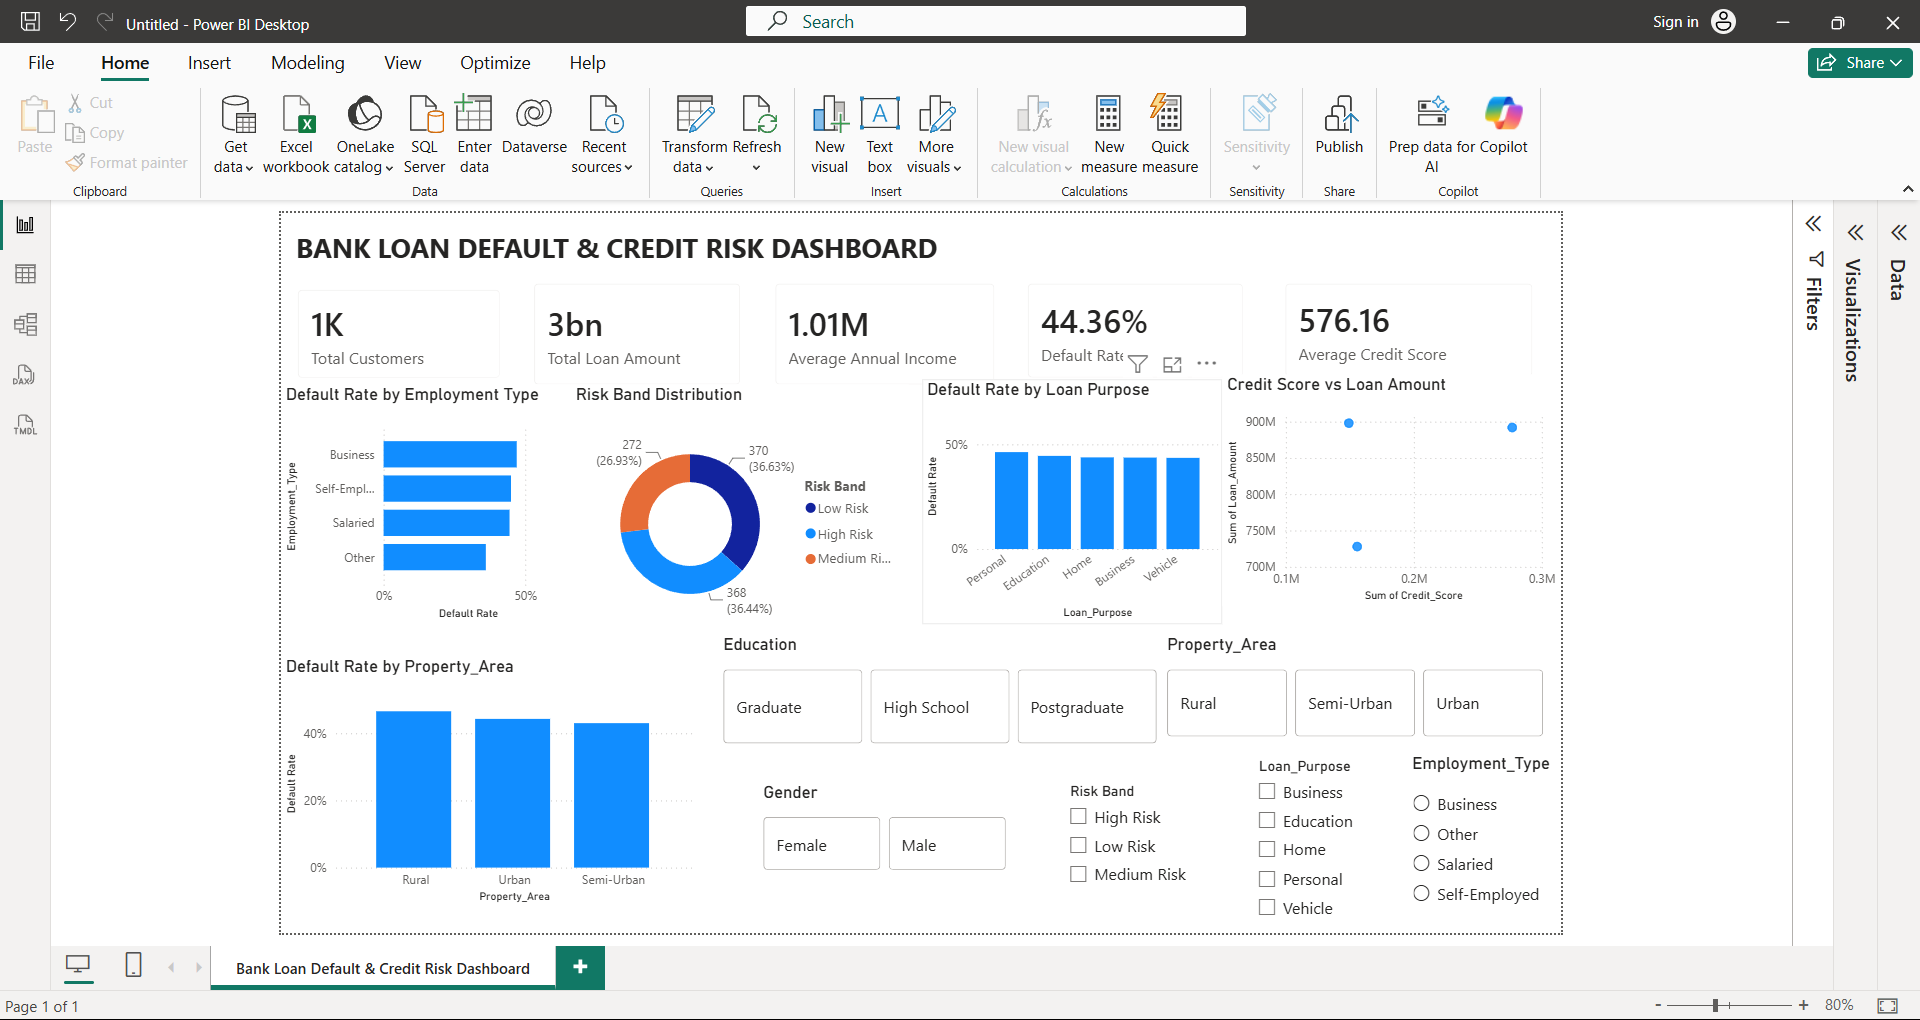

The dashboard page shown, as its layout file describes it:
{"tool":"powerbi","page":{"name":"Bank Loan Default & Credit Risk Dashboard","canvas":[1280,720],"ordinal":0},"visuals":[{"type":"cardVisual","fields":{"Data":["Bank_Loan_Dataset_PowerBI.Total Customers"]},"box":[0,59.9,236,122.3],"z":0},{"type":"cardVisual","fields":{"Data":["Bank_Loan_Dataset_PowerBI.Total Loan Amount"]},"box":[236,53.8,240.9,135.7],"z":1000},{"type":"cardVisual","fields":{"Data":["Bank_Loan_Dataset_PowerBI.Average Annual Income"]},"box":[476.9,53.8,253.1,135.7],"z":2000},{"type":"cardVisual","fields":{"Data":["Bank_Loan_Dataset_PowerBI.Average Credit Score"]},"box":[988,53.8,281.3,127.2],"z":3000},{"type":"cardVisual","fields":{"Data":["Bank_Loan_Dataset_PowerBI.Default Rate"]},"box":[730,53.8,249.5,128.4],"z":4000},{"type":"clusteredColumnChart","title":"Default Rate by Loan Purpose","fields":{"Category":["Bank_Loan_Dataset_PowerBI.Loan_Purpose"],"Y":["Bank_Loan_Dataset_PowerBI.Default Rate"]},"box":[640.8,166.3,300.8,244.6],"z":5000},{"type":"donutChart","title":"Risk Band Distribution","fields":{"Category":["Bank_Loan_Dataset_PowerBI.Risk Band"],"Y":["CountNonNull(Bank_Loan_Dataset_PowerBI.Loan_ID)"]},"box":[289.8,171.2,337.5,249.5],"z":6000},{"type":"scatterChart","title":"Credit Score vs Loan Amount","fields":{"X":["Sum(Bank_Loan_Dataset_PowerBI.Credit_Score)"],"Y":["Sum(Bank_Loan_Dataset_PowerBI.Loan_Amount)"],"Category":["Bank_Loan_Dataset_PowerBI.Risk Band"]},"box":[941.6,161.4,338.7,232.3],"z":7000},{"type":"columnChart","fields":{"Category":["Bank_Loan_Dataset_PowerBI.Property_Area"],"Y":["Bank_Loan_Dataset_PowerBI.Default Rate"]},"box":[0,442.7,417,251.9],"z":8000},{"type":"advancedSlicerVisual","fields":{"Values":["Bank_Loan_Dataset_PowerBI.Gender"]},"box":[476.9,568.6,253.1,94.2],"z":9000},{"type":"listSlicer","fields":{"Values":["Bank_Loan_Dataset_PowerBI.Employment_Type"]},"box":[1126.2,540.5,154.1,171.2],"z":10000},{"type":"advancedSlicerVisual","fields":{"Values":["Bank_Loan_Dataset_PowerBI.Education"]},"box":[437.8,420.7,443.9,114.9],"z":11000},{"type":"advancedSlicerVisual","fields":{"Values":["Bank_Loan_Dataset_PowerBI.Property_Area"]},"box":[881.7,420.7,387.6,107.6],"z":12000},{"type":"slicer","fields":{"Values":["Bank_Loan_Dataset_PowerBI.Loan_Purpose"]},"box":[964.8,540.5,146.7,177.3],"z":13000},{"type":"textbox","box":[9.8,11,897.6,58.7],"z":14000},{"type":"slicer","fields":{"Values":["Bank_Loan_Dataset_PowerBI.Risk Band"]},"box":[776.5,564.9,188.3,129.6],"z":15000},{"type":"barChart","title":"Default Rate by Employment Type","fields":{"Category":["Bank_Loan_Dataset_PowerBI.Employment_Type"],"Y":["Bank_Loan_Dataset_PowerBI.Default Rate"]},"box":[0,171.2,289.8,239.7],"z":16000}]}

Visuals, with their boxes on the page's 1280x720 design canvas (x1, y1, x2, y2). These are canvas units, not pixel positions in the 1920x1020 screenshot, which may show the page scaled, cropped or inside an application window:
cardVisual - Bank_Loan_Dataset_PowerBI.Total Customers: {"x1": 0, "y1": 60, "x2": 236, "y2": 182}
cardVisual - Bank_Loan_Dataset_PowerBI.Total Loan Amount: {"x1": 236, "y1": 54, "x2": 477, "y2": 190}
cardVisual - Bank_Loan_Dataset_PowerBI.Average Annual Income: {"x1": 477, "y1": 54, "x2": 730, "y2": 190}
cardVisual - Bank_Loan_Dataset_PowerBI.Average Credit Score: {"x1": 988, "y1": 54, "x2": 1269, "y2": 181}
cardVisual - Bank_Loan_Dataset_PowerBI.Default Rate: {"x1": 730, "y1": 54, "x2": 980, "y2": 182}
"Default Rate by Loan Purpose" clusteredColumnChart: {"x1": 641, "y1": 166, "x2": 942, "y2": 411}
"Risk Band Distribution" donutChart: {"x1": 290, "y1": 171, "x2": 627, "y2": 421}
"Credit Score vs Loan Amount" scatterChart: {"x1": 942, "y1": 161, "x2": 1280, "y2": 394}
columnChart - Bank_Loan_Dataset_PowerBI.Property_Area x Bank_Loan_Dataset_PowerBI.Default Rate: {"x1": 0, "y1": 443, "x2": 417, "y2": 695}
advancedSlicerVisual - Bank_Loan_Dataset_PowerBI.Gender: {"x1": 477, "y1": 569, "x2": 730, "y2": 663}
listSlicer - Bank_Loan_Dataset_PowerBI.Employment_Type: {"x1": 1126, "y1": 540, "x2": 1280, "y2": 712}
advancedSlicerVisual - Bank_Loan_Dataset_PowerBI.Education: {"x1": 438, "y1": 421, "x2": 882, "y2": 536}
advancedSlicerVisual - Bank_Loan_Dataset_PowerBI.Property_Area: {"x1": 882, "y1": 421, "x2": 1269, "y2": 528}
slicer - Bank_Loan_Dataset_PowerBI.Loan_Purpose: {"x1": 965, "y1": 540, "x2": 1112, "y2": 718}
textbox: {"x1": 10, "y1": 11, "x2": 907, "y2": 70}
slicer - Bank_Loan_Dataset_PowerBI.Risk Band: {"x1": 776, "y1": 565, "x2": 965, "y2": 694}
"Default Rate by Employment Type" barChart: {"x1": 0, "y1": 171, "x2": 290, "y2": 411}
